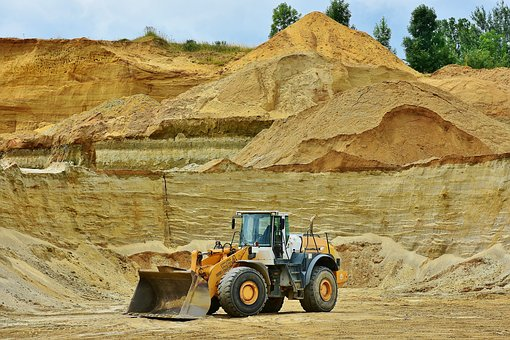excavator: (122, 206, 350, 324)
